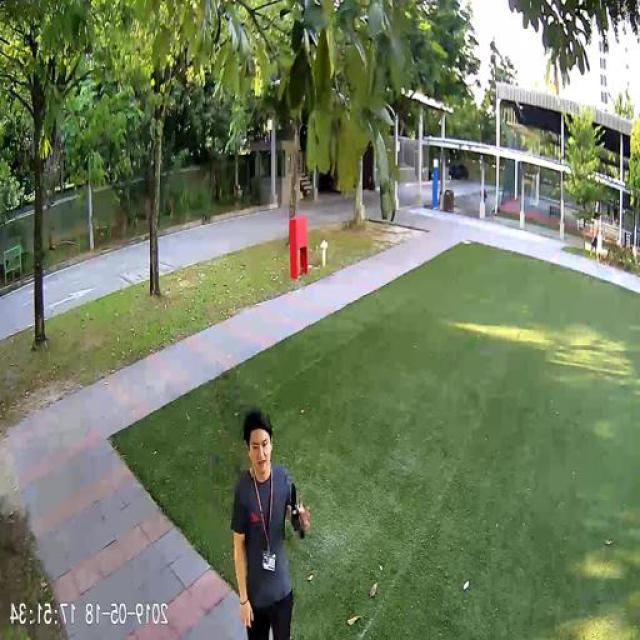Gun: (292, 480, 306, 539)
